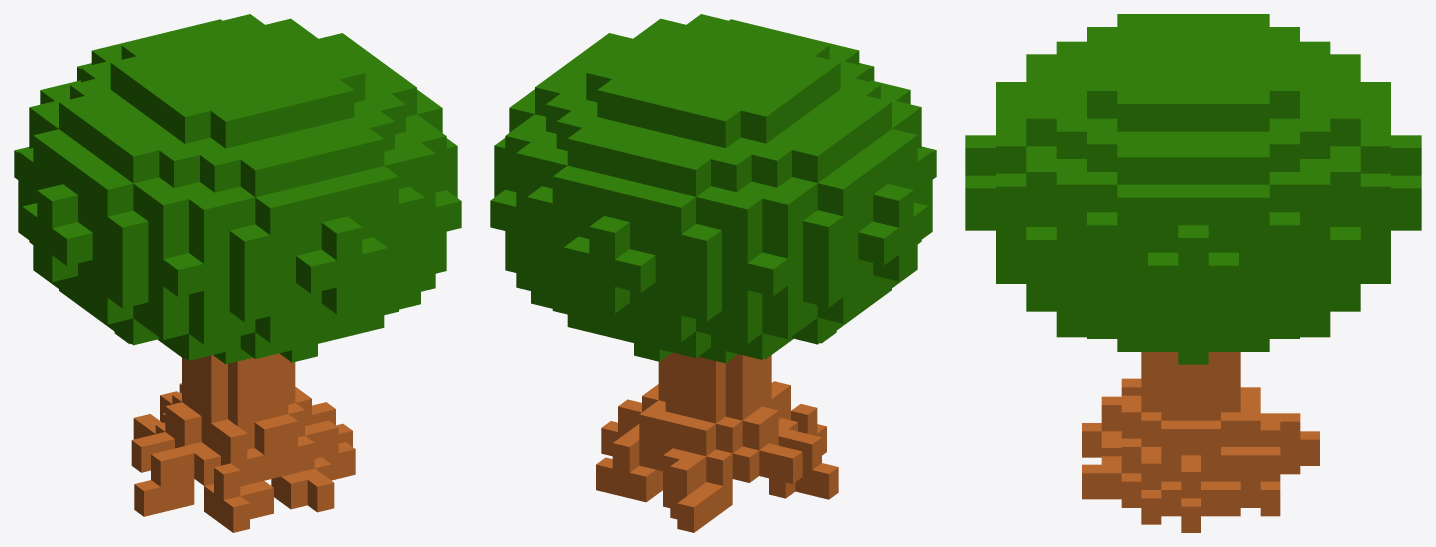
3 views of the same model, side by side, from view 1: azimuth 30°, elevation 25°; view 2: azimuth 150°, elevation 25°; view 3: azimuth 270°, elevation 25° (orthographic). The views are drawn at different scales.
Visible parts, largest first — view 1: 球, 円柱; view 2: 球, 円柱; view 3: 球, 円柱.
Boxes of the visible parts, bbox=[...] form: 球: bbox=[14, 14, 461, 364]; 円柱: bbox=[131, 353, 355, 532]; 球: bbox=[490, 14, 936, 363]; 円柱: bbox=[596, 352, 838, 532]; 球: bbox=[965, 14, 1421, 364]; 円柱: bbox=[1082, 352, 1319, 532].
Bounding box in the file's own units: 488 × 496 × 488.
